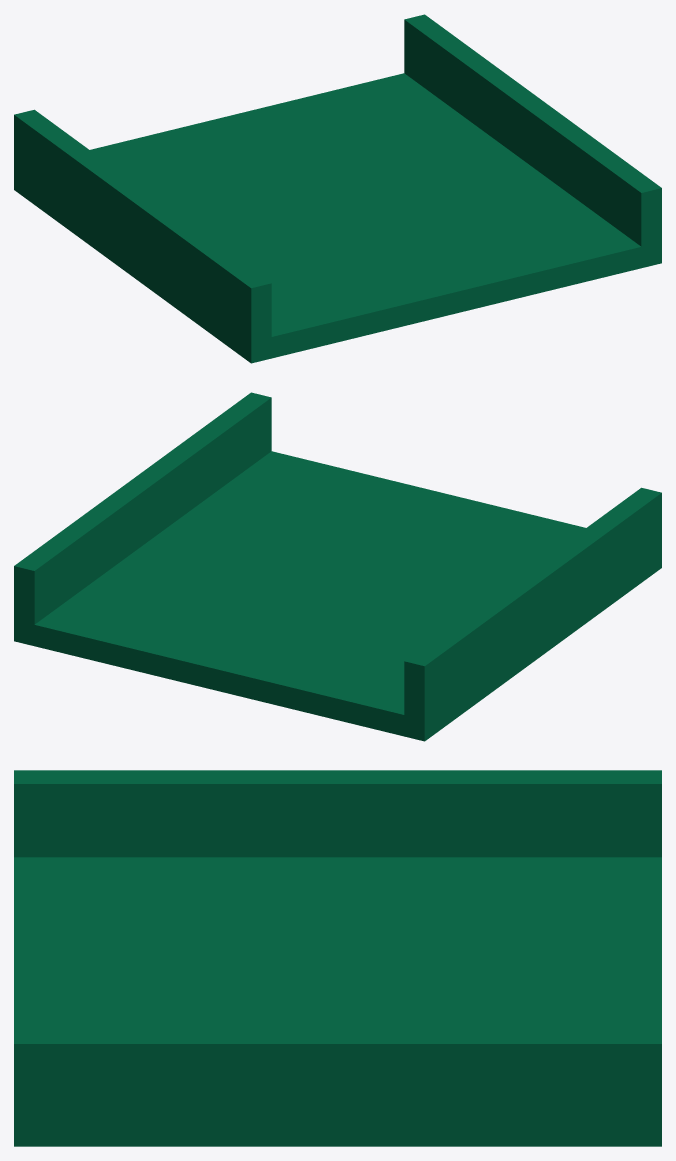
Rendered from GreenRoof_2Edges.glb.
3 renders of one model, top to bottom at view 1: azimuth 30°, elevation 25°; view 2: azimuth 150°, elevation 25°; view 3: azimuth 270°, elevation 25°, orthographic. The views are drawn at different scales.
Visible parts, largest first — view 1: roof_flat_2Edges_green; view 2: roof_flat_2Edges_green; view 3: roof_flat_2Edges_green.
Part boxes in pixels (x1=…): roof_flat_2Edges_green: x1=14, y1=14, x2=661, y2=363; roof_flat_2Edges_green: x1=14, y1=392, x2=661, y2=741; roof_flat_2Edges_green: x1=14, y1=770, x2=661, y2=1146.
Size of what is drawn, in the model's own units: 4 by 0.7 by 4.
Materials: 1 (1 with a texture image).
